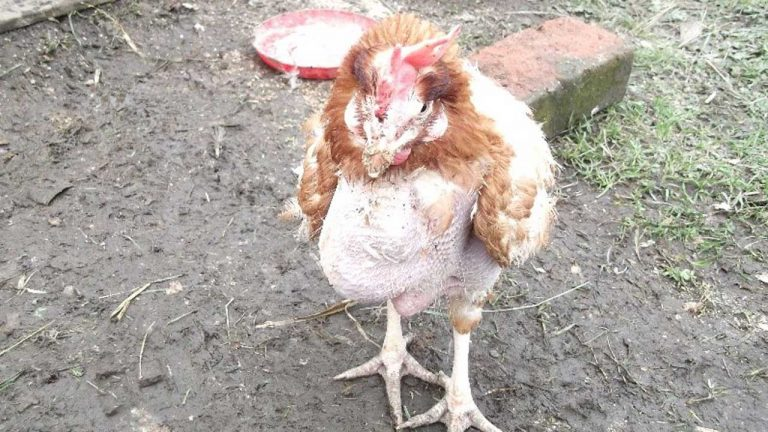Unhealthy: (289, 11, 573, 432)
